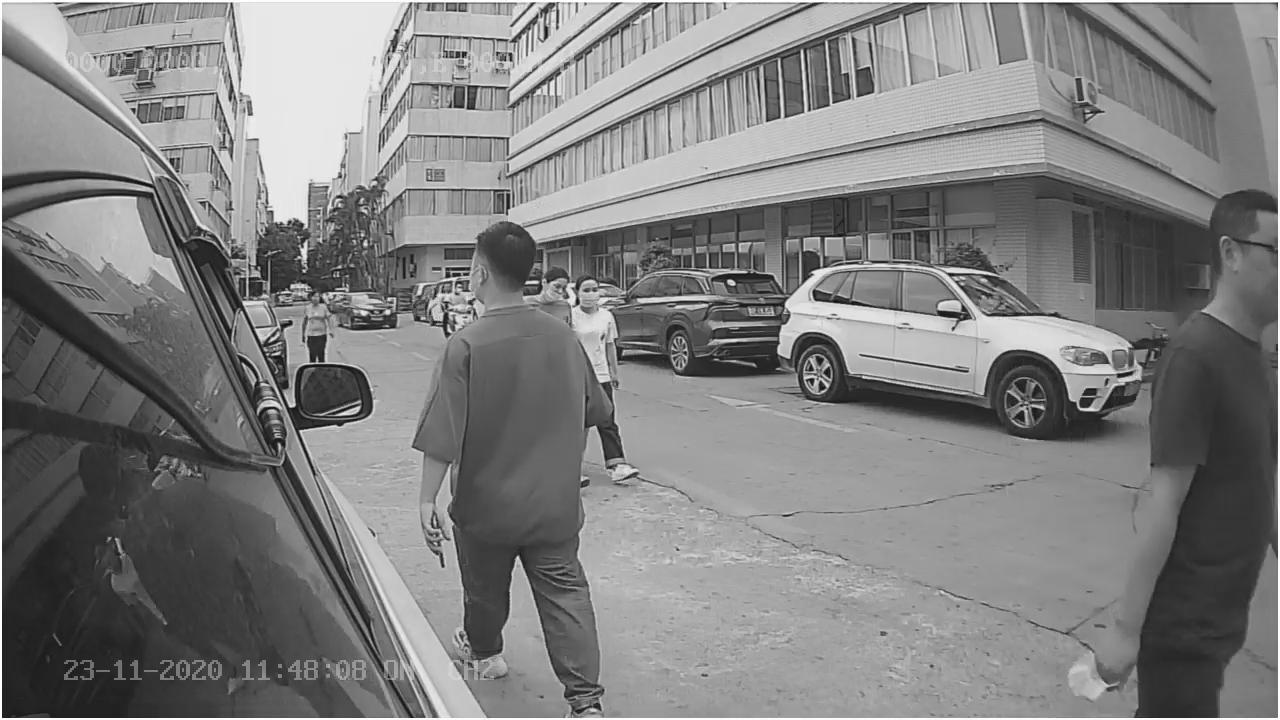person: (414, 216, 611, 555)
